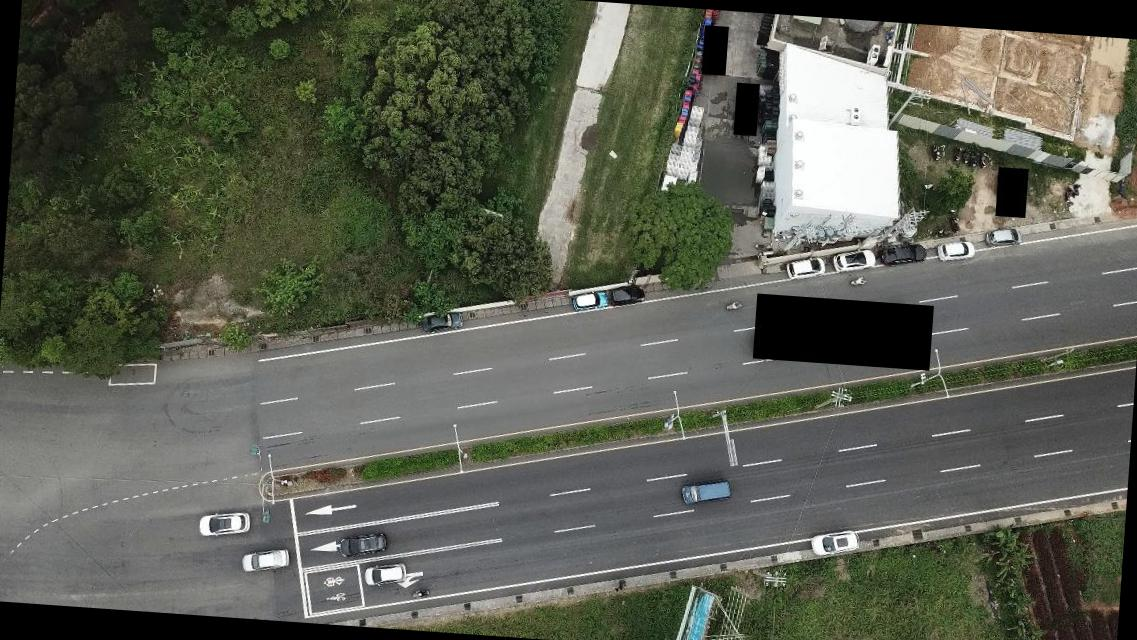vehicle: (807, 524, 859, 562), (197, 508, 252, 542), (682, 474, 730, 508), (338, 528, 387, 560), (240, 545, 290, 575), (880, 242, 928, 268), (784, 253, 827, 282), (362, 560, 406, 588), (831, 247, 876, 272), (418, 310, 464, 334), (936, 238, 976, 264), (984, 224, 1022, 248), (572, 288, 608, 312), (610, 283, 644, 307)
